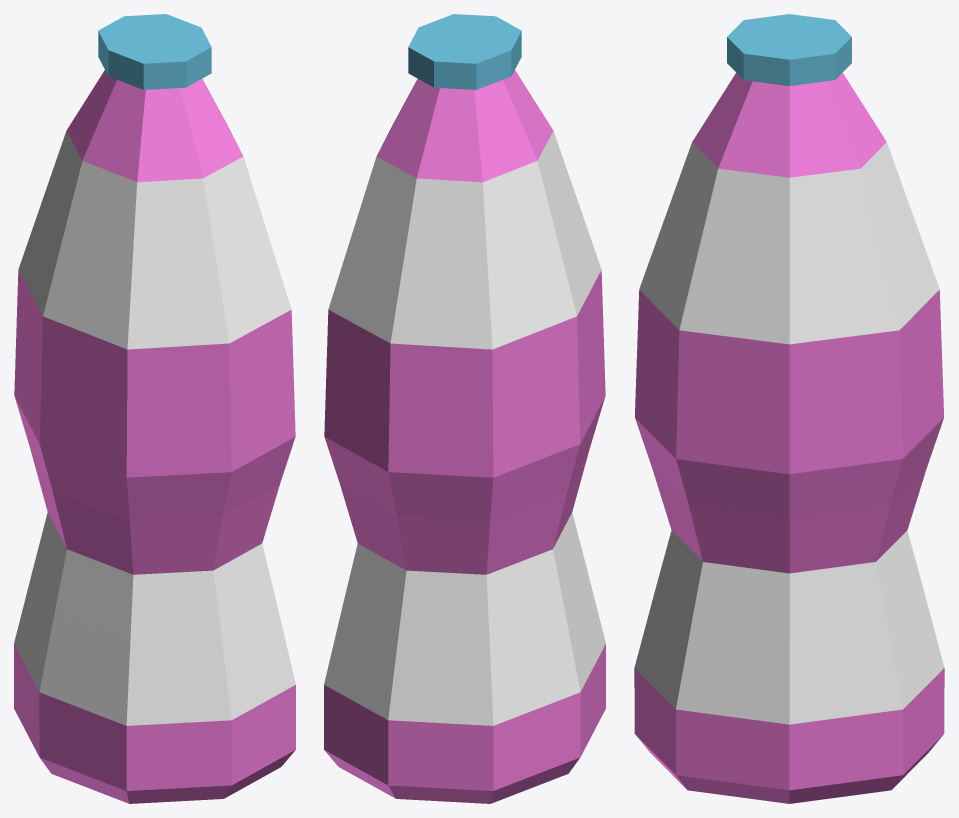
File: fristi.fbx
3 views of the same model, side by side, from view 1: azimuth 30°, elevation 25°; view 2: azimuth 150°, elevation 25°; view 3: azimuth 270°, elevation 25° (orthographic).
Visible parts, largest first — view 1: bottle, label, cap; view 2: bottle, label, cap; view 3: bottle, label, cap.
Part boxes in pixels (bbox=[...]): bottle: bbox=[14, 70, 295, 803]; label: bbox=[14, 131, 295, 725]; cap: bbox=[98, 14, 211, 89]; bottle: bbox=[324, 70, 605, 803]; label: bbox=[324, 131, 605, 725]; cap: bbox=[408, 14, 521, 89]; bottle: bbox=[634, 72, 944, 803]; label: bbox=[634, 142, 944, 724]; cap: bbox=[727, 14, 851, 86].
Size of the model in its own units: 49.67 by 146 by 57.2.
